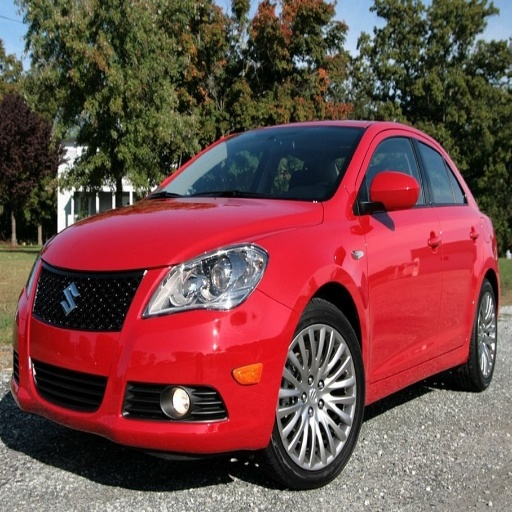front_bumper: (20, 262, 300, 451)
front_glass: (153, 126, 366, 201)
front_left_door: (356, 131, 440, 378)
